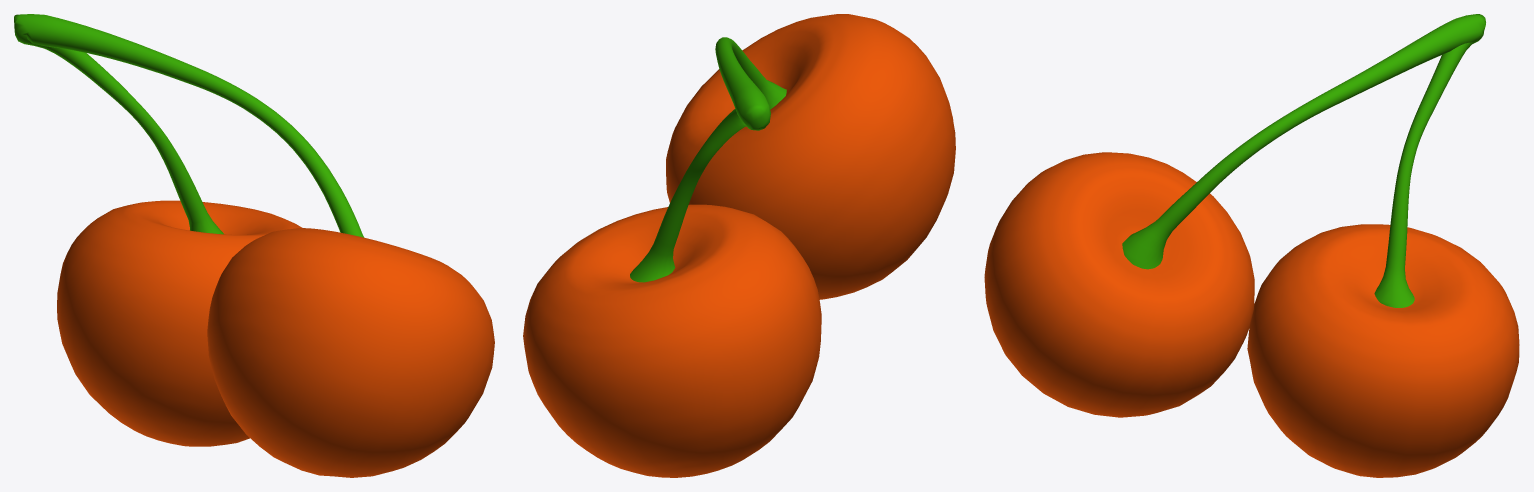
The model's file is cherry_new.fbx.
3 renders of one model, left to right at view 1: azimuth 30°, elevation 25°; view 2: azimuth 150°, elevation 25°; view 3: azimuth 270°, elevation 25°, orthographic. The views are drawn at different scales.
Visible parts, largest first — view 1: twinCherries; view 2: twinCherries; view 3: twinCherries.
Part boxes in pixels (x1,y1,x2,y2): twinCherries: (14,14,494,477); twinCherries: (523,14,955,477); twinCherries: (984,14,1519,477).
Size of the model in its own units: 0.1334 by 0.1955 by 0.2418.
